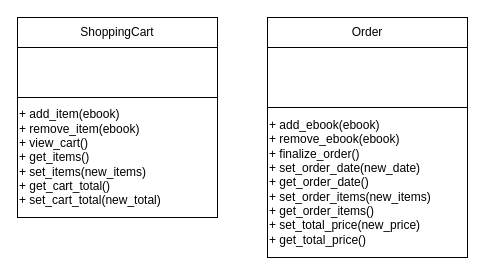
The diagram is 485 pixels wide and 275 high, and some of its shapes have lost their labels. Here are the shapes that lost their labels. From the top down, the centre of each, then its label:
At [117,72]: "# items: List <Ebook> # cart_total: Float".
At [367,77]: "# order_date: Date # order_items: Lisrt <Ebook> # total_price: Float".
